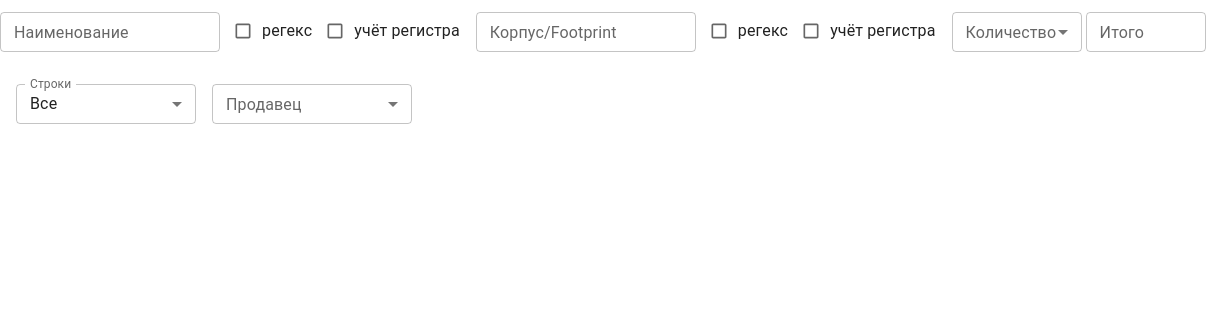
Test case: Комбобокс режимов › предлагает «Только общие» там, где есть флаг «Общие»
Press the mouse on the dropdown named "Строки" at (44, 104), box 30,94 -> 57,113
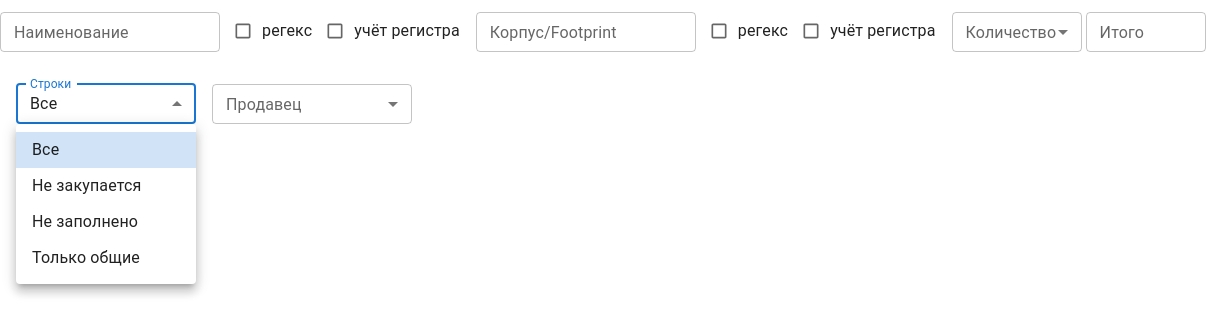
Now the option "Все" is shown, box 16,132 -> 196,168
Now the option "Не закупается" is shown, box 32,176 -> 141,195
Now the option "Не заполнено" is shown, box 32,212 -> 138,231
